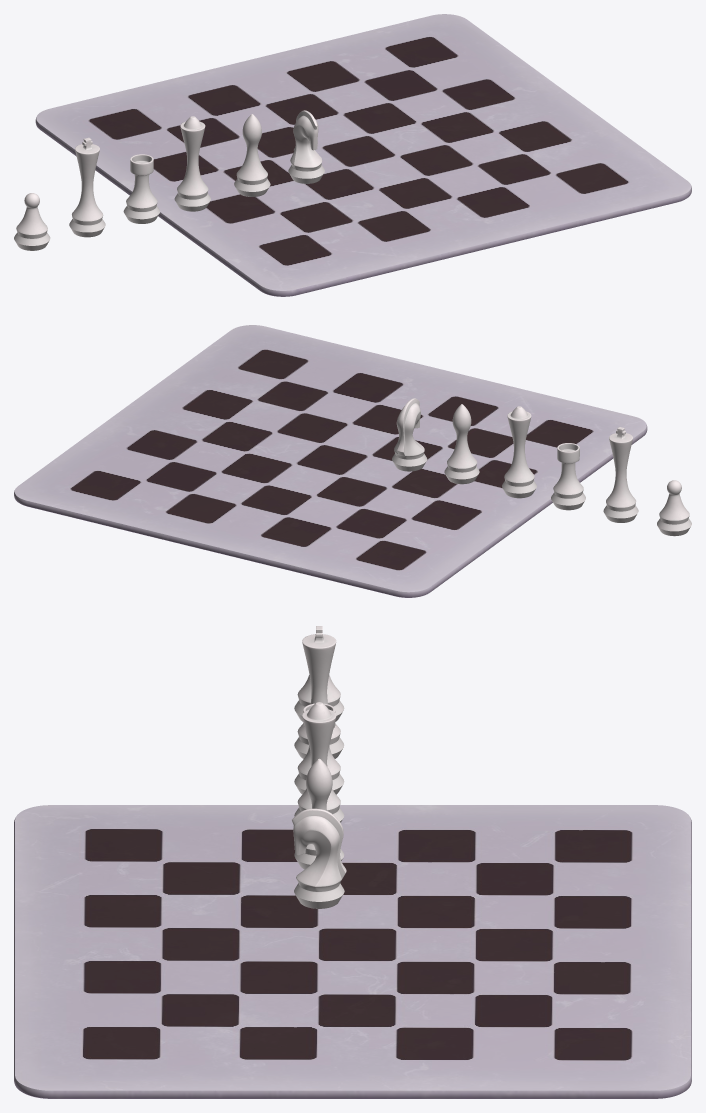
Rendered from OBoard.glb.
3 views of the same model, one above another, from view 1: azimuth 30°, elevation 25°; view 2: azimuth 150°, elevation 25°; view 3: azimuth 270°, elevation 25° (orthographic). The views are drawn at different scales.
Parts seen in each view (by area): view 1: Plane.001, King, Queen, Knight, Bishop, Rook, Pawn; view 2: Plane.001, King, Queen, Knight, Bishop, Rook, Pawn; view 3: Plane.001, Knight, King, Queen, Bishop, Rook, Pawn.
Part boxes in pixels (x1,y1,x2,y2): Plane.001: [35, 14, 691, 296]; King: [69, 137, 105, 237]; Queen: [174, 116, 210, 211]; Knight: [288, 110, 324, 183]; Bishop: [234, 114, 270, 196]; Rook: [123, 154, 159, 223]; Pawn: [14, 193, 50, 250]; Plane.001: [14, 325, 647, 597]; King: [603, 427, 638, 522]; Queen: [502, 406, 536, 498]; Knight: [392, 398, 427, 471]; Bishop: [444, 404, 479, 484]; Rook: [551, 443, 585, 510]; Pawn: [657, 480, 691, 536]; Plane.001: [14, 805, 691, 1098]; Knight: [292, 808, 346, 908]; King: [294, 626, 344, 758]; Queen: [294, 702, 344, 822]; Bishop: [294, 758, 344, 869]; Rook: [294, 703, 344, 794]; Pawn: [294, 675, 344, 721].
Size of the model in its own units: 6.72 by 1.22 by 5.02.
Materials: 2 (2 with a texture image).
